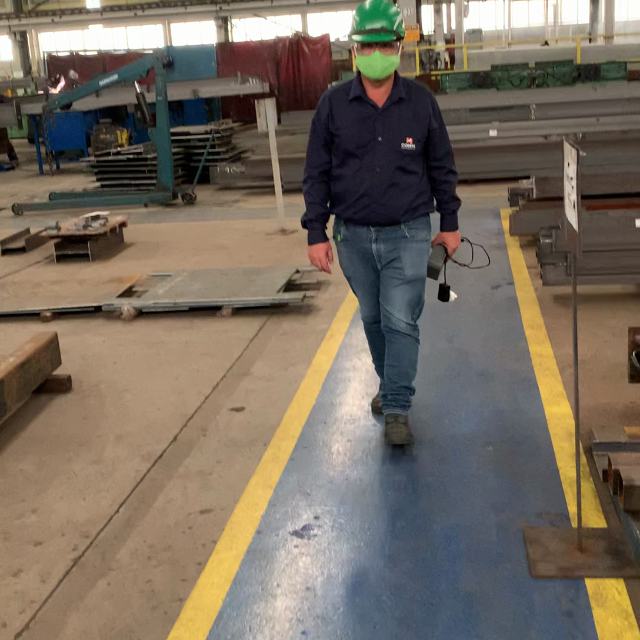eye-glass: (353, 42, 402, 56)
helmet: (352, 2, 406, 44)
mask: (351, 51, 399, 76)
person: (299, 1, 467, 449)
safety-shoe: (386, 411, 417, 448), (370, 394, 384, 411)
